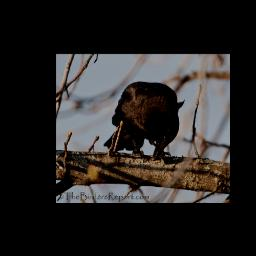Crow: (102, 80, 187, 161)
